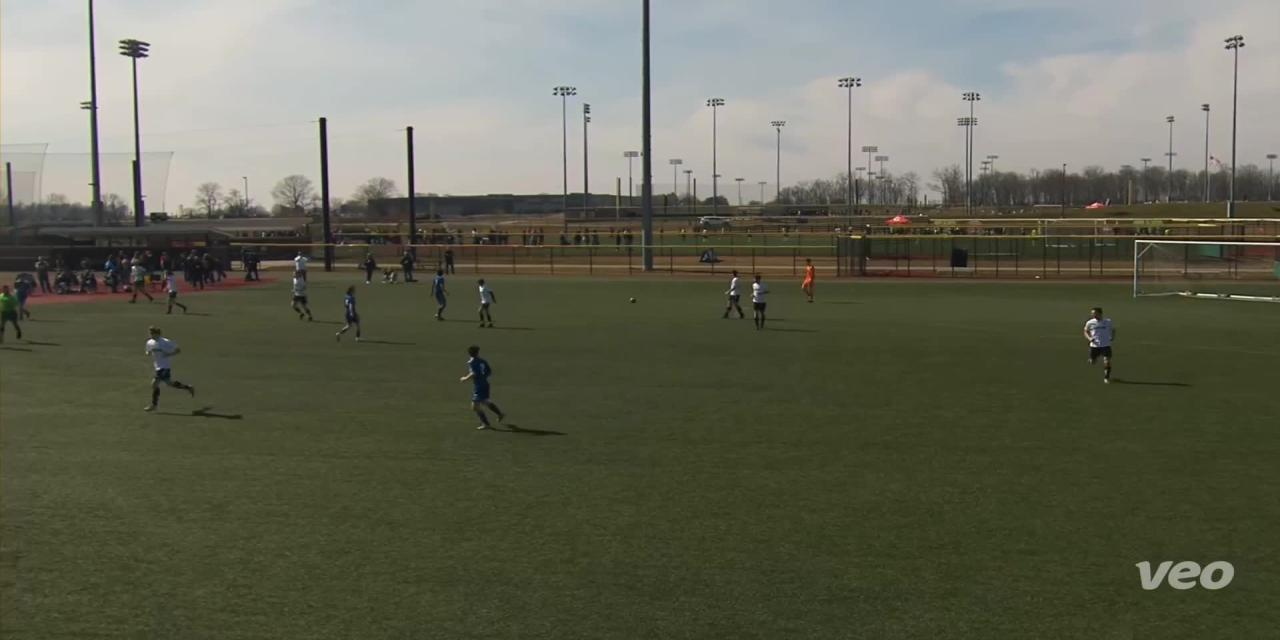goal: (1120, 228, 1280, 320)
sports ball: (624, 292, 641, 308)
